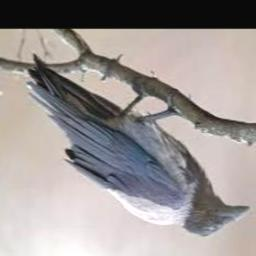Crow: (26, 55, 251, 238)
